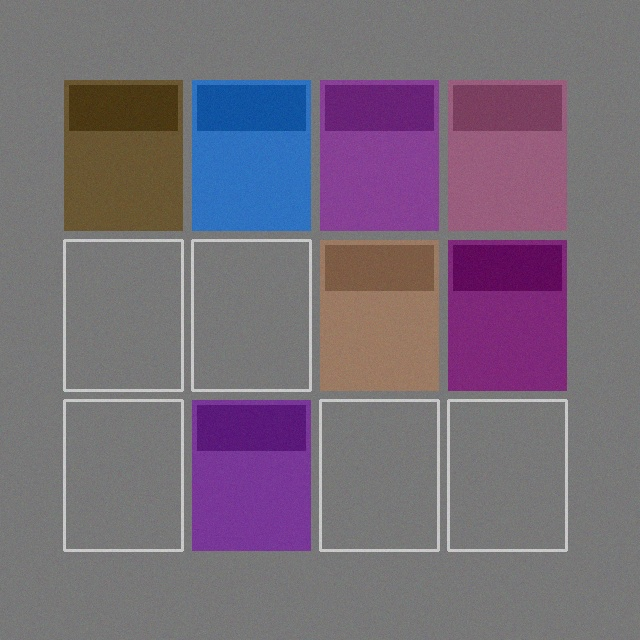space-empty: (64, 240, 182, 390), (192, 240, 310, 390), (64, 400, 182, 550), (320, 400, 438, 550), (448, 400, 566, 550)
space-occupied: (64, 80, 182, 230), (192, 80, 310, 230), (320, 80, 438, 230), (448, 80, 566, 230), (320, 240, 438, 390), (448, 240, 566, 390), (192, 400, 310, 550)
